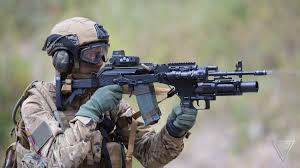gun: (54, 48, 273, 129)
helmet: (40, 16, 111, 59)
